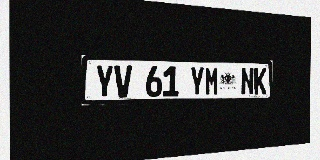1: (163, 66, 179, 97)
6: (146, 66, 162, 97)
K: (254, 68, 266, 95)
M: (205, 67, 219, 96)
N: (241, 67, 254, 95)
V: (114, 65, 132, 98)
Y: (95, 65, 114, 98), (190, 66, 204, 96)
